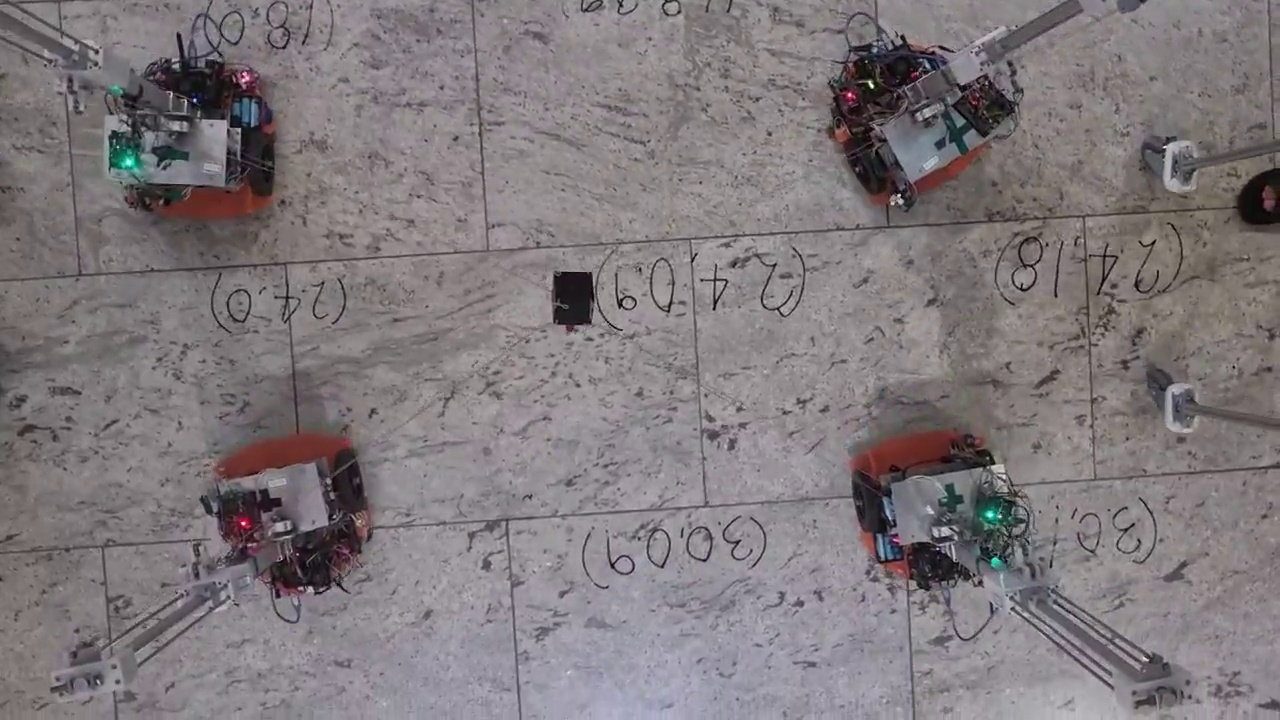e0: (551, 269, 595, 328)
r1: (851, 448, 1001, 534)
r2: (841, 76, 1002, 197)
r3: (119, 131, 275, 205)
r4: (214, 445, 367, 541)
y_+_axis_vector: (690, 217, 1083, 240)
y_-_axis_vector: (285, 240, 691, 263)
